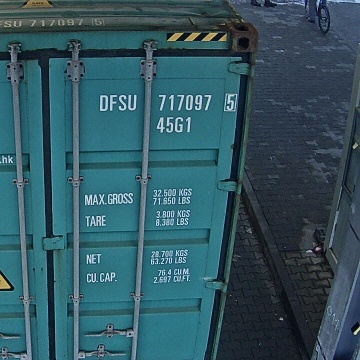serial_id: (100, 94, 235, 110)
